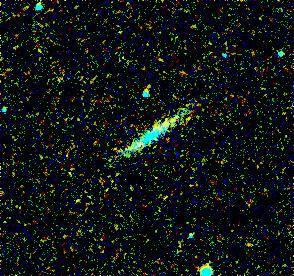star: (133, 72, 163, 102)
